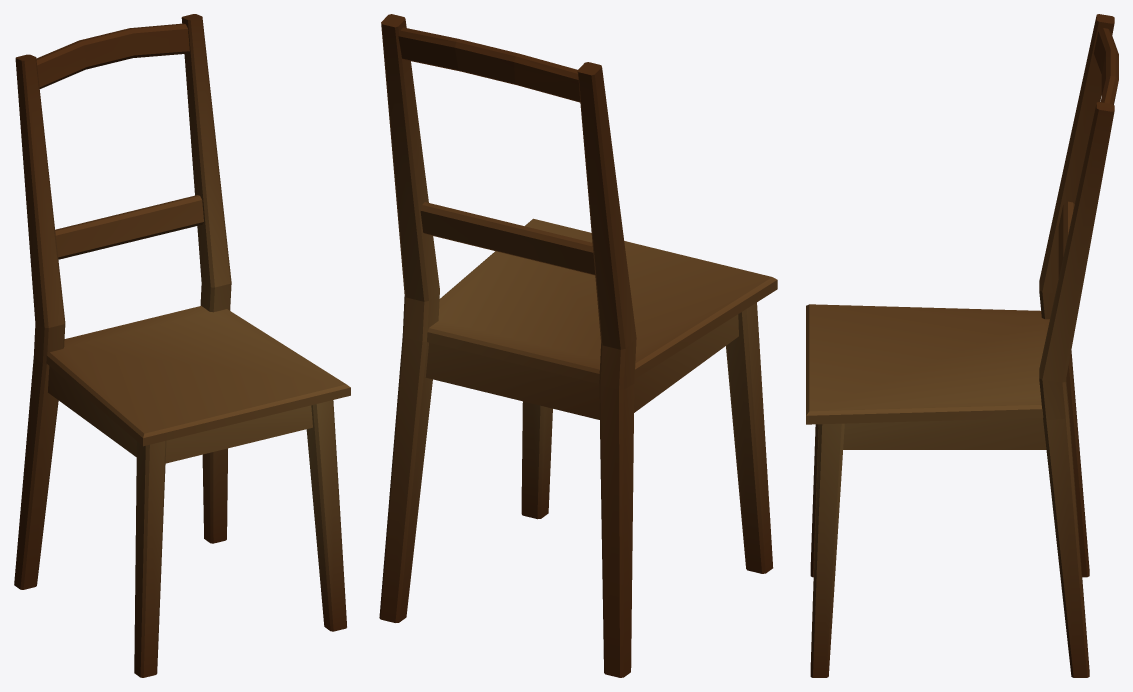
File: chair.FBX
The picture shows the model from 3 angles, left to right: view 1: azimuth 30°, elevation 25°; view 2: azimuth 150°, elevation 25°; view 3: azimuth 270°, elevation 25°; orthographic projection. The views are drawn at different scales.
Parts seen in each view (by area): view 1: chair; view 2: chair; view 3: chair.
Part boxes in pixels (left/top/right/bottom): chair: left=14, top=14, right=350, bottom=677; chair: left=379, top=14, right=777, bottom=677; chair: left=806, top=14, right=1118, bottom=677.
Bounding box in the file's own units: 40 × 95.24 × 48.05.
